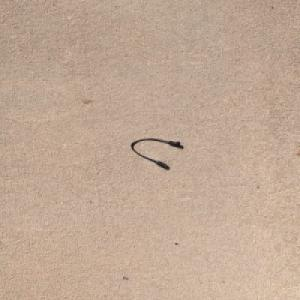Wire: (129, 137, 181, 168)
